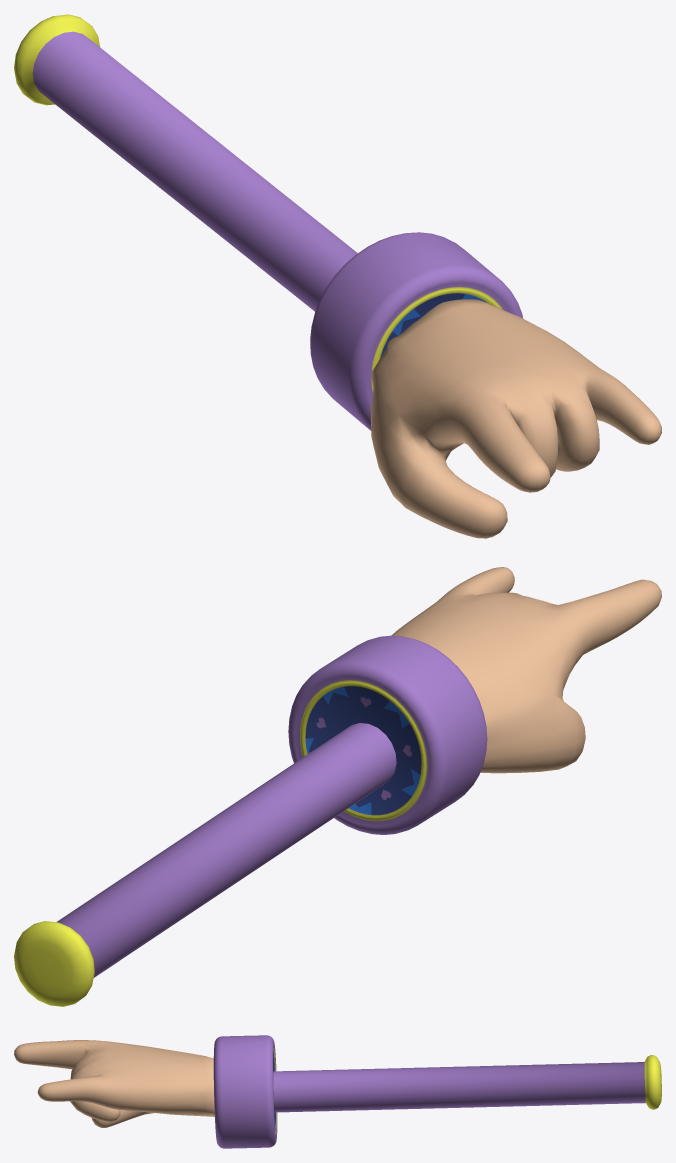
File: WAND.fbx
3 renders of one model, top to bottom at view 1: azimuth 30°, elevation 25°; view 2: azimuth 150°, elevation 25°; view 3: azimuth 270°, elevation 25°, orthographic. The views are drawn at different scales.
Parts seen in each view (by area): view 1: Plane.020_low_poly._0; view 2: Plane.020_low_poly._0; view 3: Plane.020_low_poly._0.
Boxes of the visible parts, box(x1,y1,x2,y2) form: Plane.020_low_poly._0: box(14, 14, 661, 538); Plane.020_low_poly._0: box(14, 567, 661, 1006); Plane.020_low_poly._0: box(14, 1035, 661, 1148).
Size of the model in its own units: 94.11 by 80.81 by 459.
Materials: 2 (1 with a texture image).
